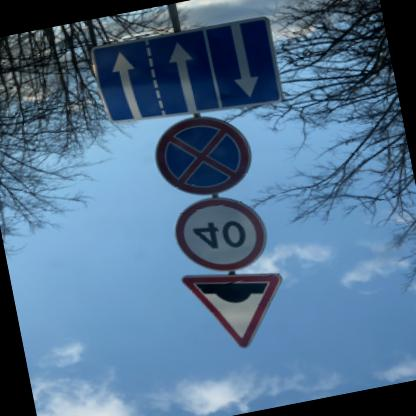speedlimit: (167, 189, 271, 281)
